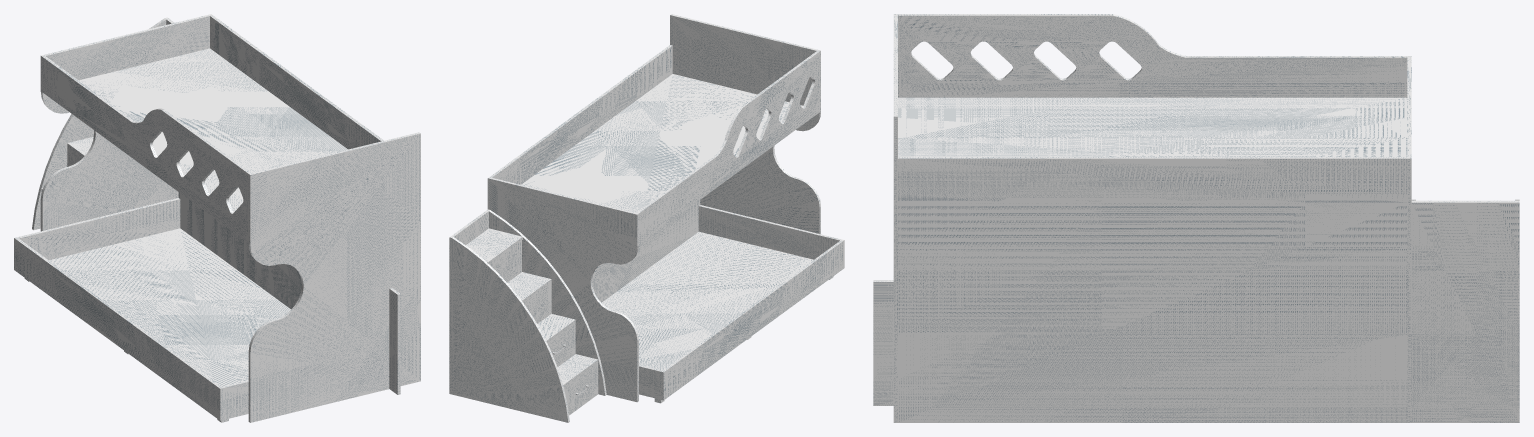
The model's file is bunkbed.dae.
The picture shows the model from 3 angles, left to right: view 1: azimuth 30°, elevation 25°; view 2: azimuth 150°, elevation 25°; view 3: azimuth 270°, elevation 25°; orthographic projection. The views are drawn at different scales.
Visible parts, largest first — view 1: group_16, group_28, group_15, group_14, group_13, group_25, group_19, group_24, group_26, group_3, group_22, group_27; view 2: group_15, group_28, group_14, group_3, group_16, group_13, group_25, group_19, group_27, group_26, group_2, group_6 (+9 smaller); view 3: group_17, group_15, group_13, group_11, group_19, group_22, group_16, group_14.
Part boxes in pixels (left/top/right/bottom): group_16: left=248, top=132, right=420, bottom=422; group_28: left=49, top=228, right=290, bottom=386; group_15: left=79, top=48, right=347, bottom=211; group_14: left=40, top=14, right=212, bottom=231; group_13: left=42, top=56, right=250, bottom=242; group_25: left=14, top=237, right=223, bottom=420; group_19: left=210, top=15, right=383, bottom=149; group_24: left=17, top=198, right=180, bottom=260; group_26: left=178, top=192, right=301, bottom=309; group_3: left=32, top=18, right=166, bottom=230; group_22: left=389, top=288, right=400, bottom=394; group_27: left=222, top=380, right=248, bottom=419; group_15: left=521, top=74, right=802, bottom=212; group_28: left=602, top=231, right=813, bottom=370; group_14: left=487, top=177, right=638, bottom=402; group_3: left=452, top=237, right=569, bottom=422; group_16: left=670, top=14, right=820, bottom=234; group_13: left=636, top=51, right=819, bottom=244; group_25: left=661, top=239, right=844, bottom=400; group_19: left=489, top=45, right=672, bottom=184; group_27: left=698, top=205, right=841, bottom=259; group_26: left=592, top=200, right=700, bottom=302; group_2: left=489, top=210, right=606, bottom=395; group_6: left=466, top=228, right=522, bottom=263; group_17: left=898, top=202, right=1407, bottom=422; group_15: left=898, top=97, right=1407, bottom=156; group_13: left=898, top=14, right=1407, bottom=97; group_11: left=1411, top=200, right=1519, bottom=422; group_19: left=898, top=157, right=1407, bottom=202; group_22: left=873, top=280, right=893, bottom=405; group_16: left=893, top=14, right=897, bottom=422; group_14: left=1407, top=56, right=1411, bottom=422.
Size of the model in its own units: 41.34 by 94.17 by 49.21.
